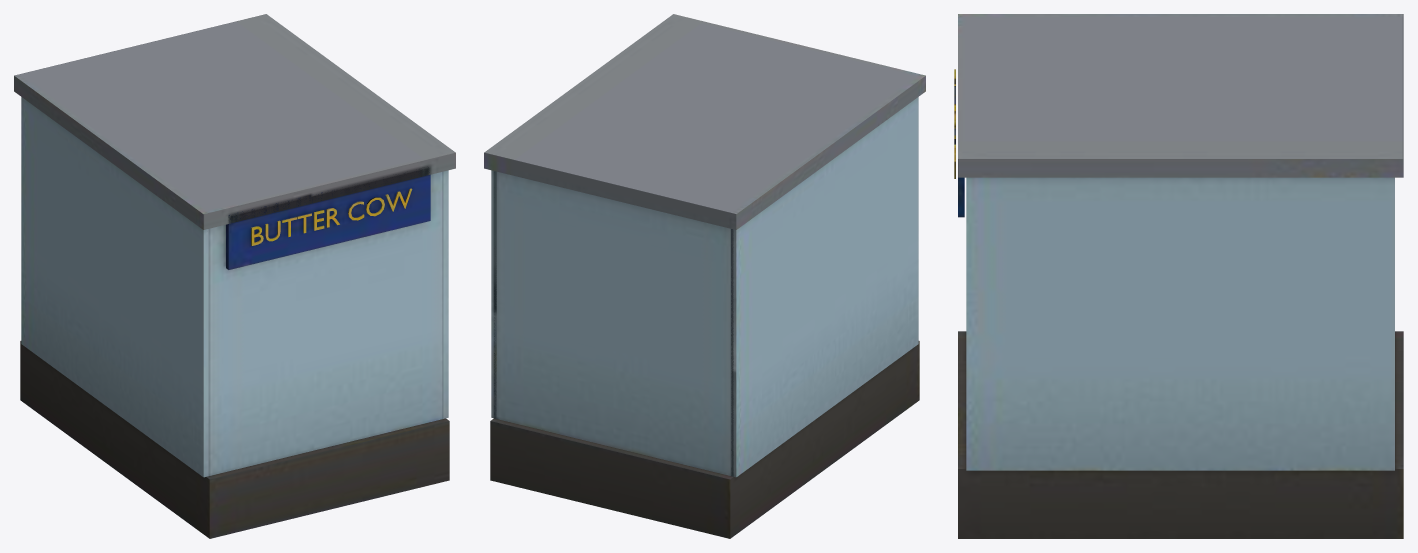
Rendered from vaca_mantequilla.glb.
3 views of the same model, side by side, from view 1: azimuth 30°, elevation 25°; view 2: azimuth 150°, elevation 25°; view 3: azimuth 270°, elevation 25° (orthographic). The views are drawn at different scales.
Visible parts, largest first — view 1: vaca_mantequilla; view 2: vaca_mantequilla; view 3: vaca_mantequilla.
Part boxes in pixels (box(x1,y1,x2,y2)): vaca_mantequilla: box(14, 14, 455, 538); vaca_mantequilla: box(484, 14, 925, 538); vaca_mantequilla: box(954, 14, 1403, 538).
Size of the model in its own units: 2 by 2.47 by 2.62.
Materials: 1 (1 with a texture image).
